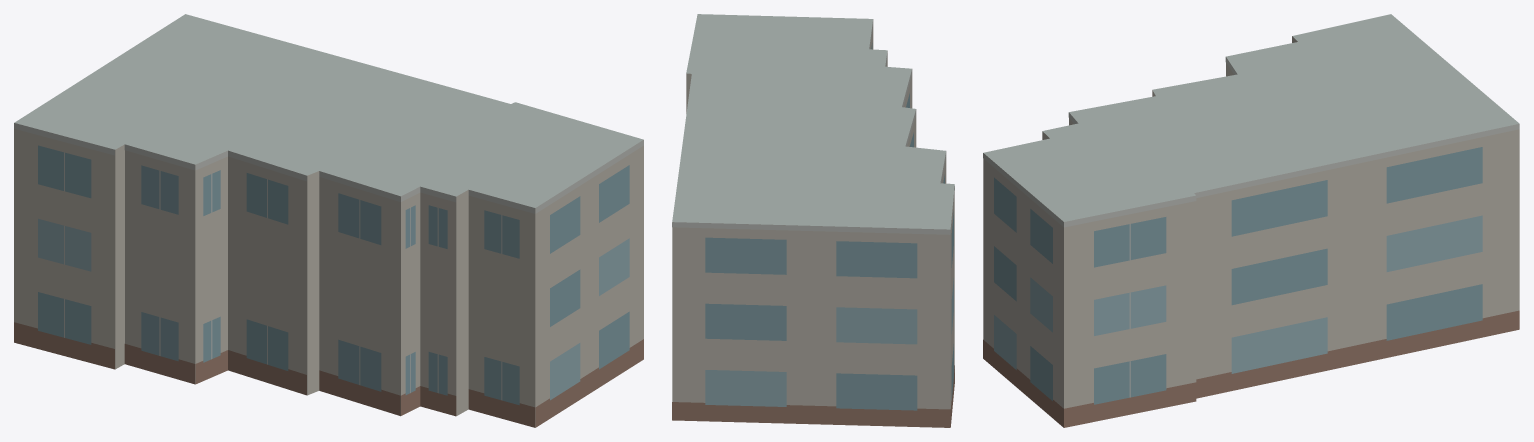
Rendered from survey-upis-33045348.glb.
The picture shows the model from 3 angles, left to right: view 1: azimuth 30°, elevation 25°; view 2: azimuth 150°, elevation 25°; view 3: azimuth 270°, elevation 25°; orthographic projection. The views are drawn at different scales.
Parts seen in each view (by area): view 1: survey-upis-33045348.tmp; view 2: survey-upis-33045348.tmp; view 3: survey-upis-33045348.tmp.
Part boxes in pixels (box(x1,y1,x2,y2)): survey-upis-33045348.tmp: box(14, 14, 643, 427); survey-upis-33045348.tmp: box(672, 14, 954, 427); survey-upis-33045348.tmp: box(983, 14, 1519, 427).
Bounding box in the file's own units: 19.84 × 9.15 × 21.62.
